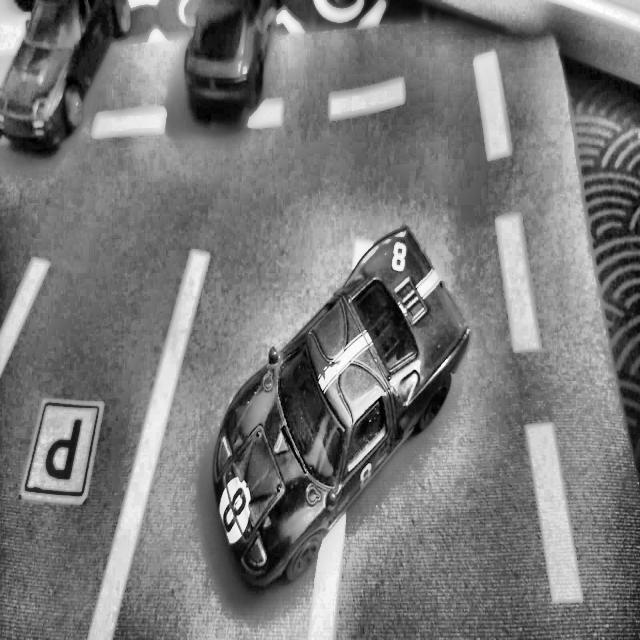car: (211, 225, 470, 590), (0, 0, 140, 162), (180, 0, 296, 123)
